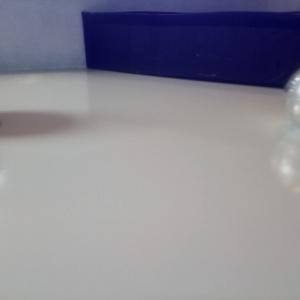zone: (81, 10, 300, 91)
